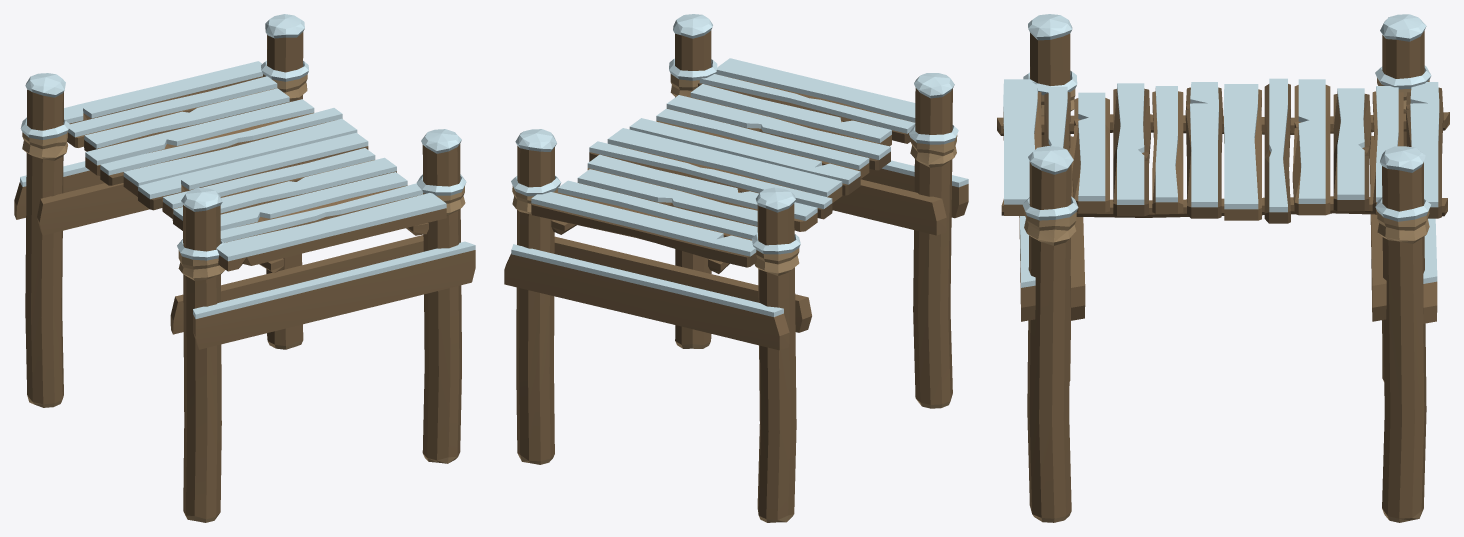
Rendered from Muelle01.glb.
3 views of the same model, side by side, from view 1: azimuth 30°, elevation 25°; view 2: azimuth 150°, elevation 25°; view 3: azimuth 270°, elevation 25° (orthographic). The views are drawn at different scales.
Parts seen in each view (by area): view 1: SM_Prop_Dock_01_Snow; view 2: SM_Prop_Dock_01_Snow; view 3: SM_Prop_Dock_01_Snow.
Part boxes in pixels (x1,y1,x2,y2): SM_Prop_Dock_01_Snow: (14, 14, 475, 522); SM_Prop_Dock_01_Snow: (504, 14, 968, 522); SM_Prop_Dock_01_Snow: (997, 14, 1449, 522).
Size of the model in its own units: 4.08 by 4.49 by 5.02.
Materials: 1 (1 with a texture image).
